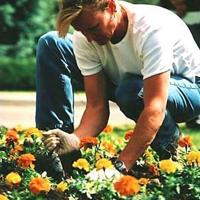person: (35, 1, 200, 177)
